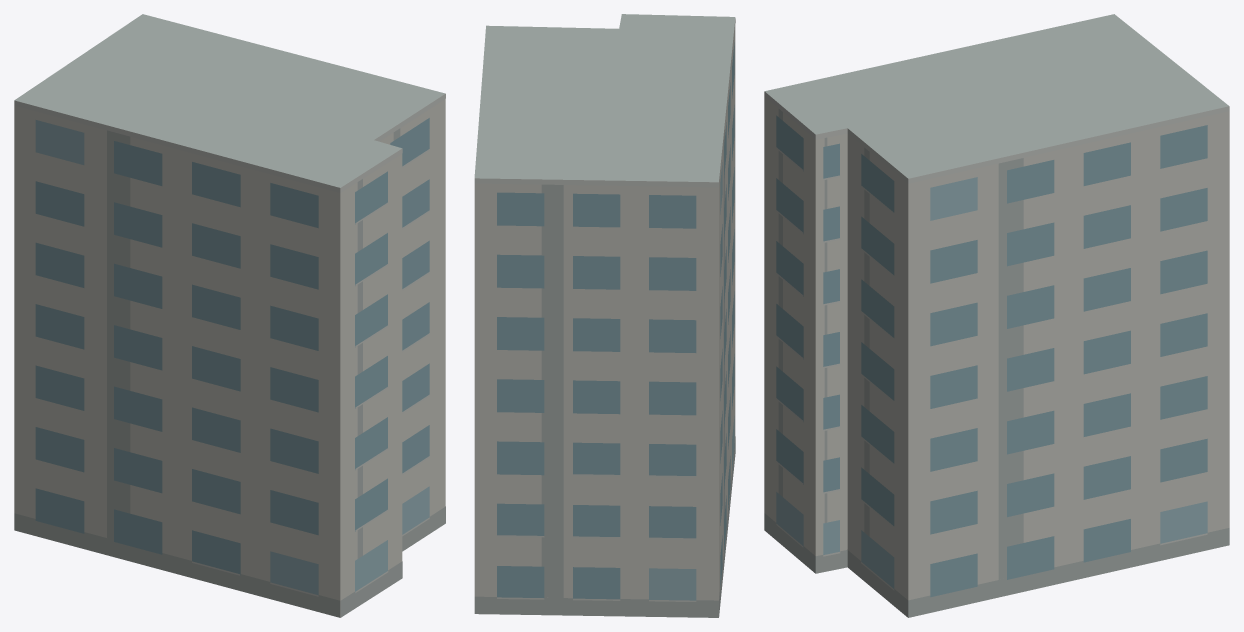
File: survey-upis-32913789.glb
The picture shows the model from 3 angles, left to right: view 1: azimuth 30°, elevation 25°; view 2: azimuth 150°, elevation 25°; view 3: azimuth 270°, elevation 25°; orthographic projection. The views are drawn at different scales.
Visible parts, largest first — view 1: survey-upis-32913789.tmp; view 2: survey-upis-32913789.tmp; view 3: survey-upis-32913789.tmp.
Part boxes in pixels (x1,y1,x2,y2): survey-upis-32913789.tmp: [14, 14, 445, 617]; survey-upis-32913789.tmp: [474, 14, 735, 617]; survey-upis-32913789.tmp: [764, 14, 1229, 617].
Bounding box in the file's own units: 16.59 × 20.6 × 19.78.
